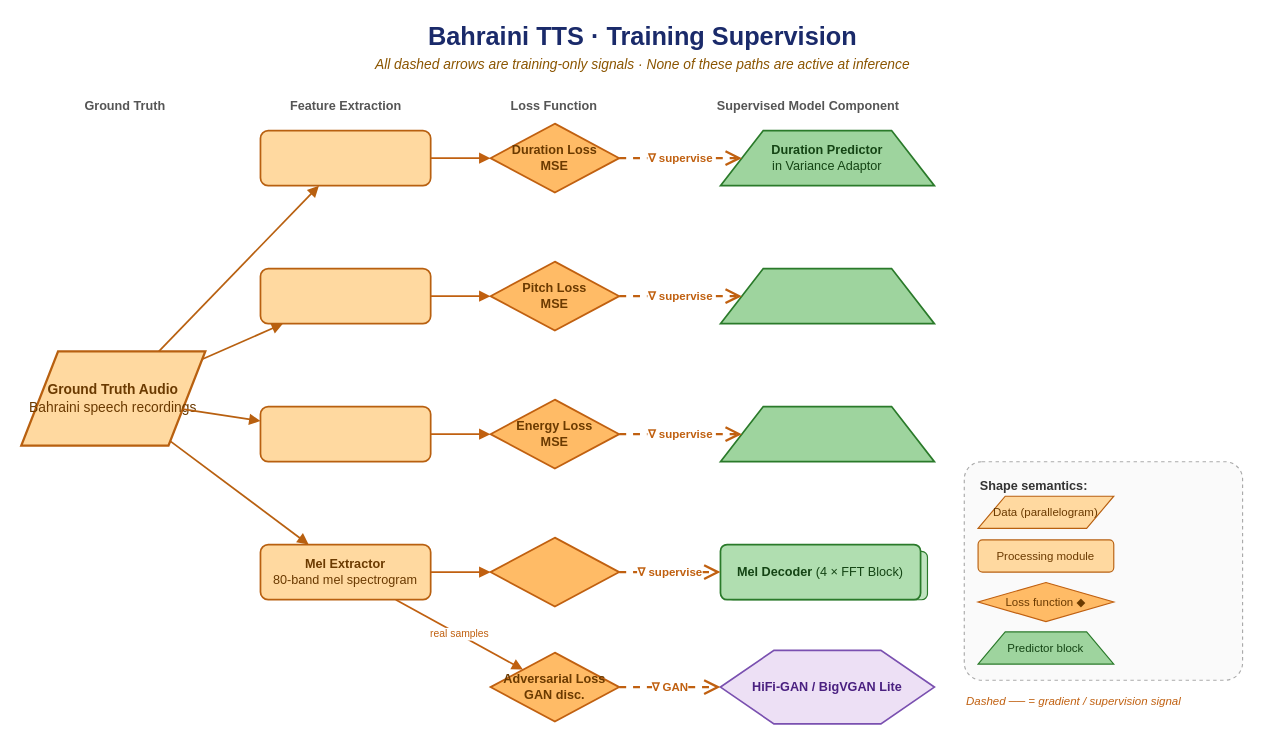
This 1263x744 diagram has some shape labels left out. The shapes that lost their labels are listed below. From the top down, each one's centre as x and y in pixels, then its label:
At (x=345, y=157): "Forced Aligner MFA · phoneme boundaries".
At (x=345, y=295): "Pitch Extractor RAPT / REAPER / WORLD".
At (x=827, y=295): "Pitch Predictor in Variance Adaptor".
At (x=345, y=433): "Energy Extractor frame-level L2 norm".
At (x=827, y=433): "Energy Predictor in Variance Adaptor".
At (x=554, y=571): "Mel Loss L1 + L2".
